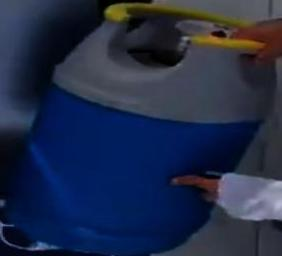cylinder: (1, 0, 282, 256)
